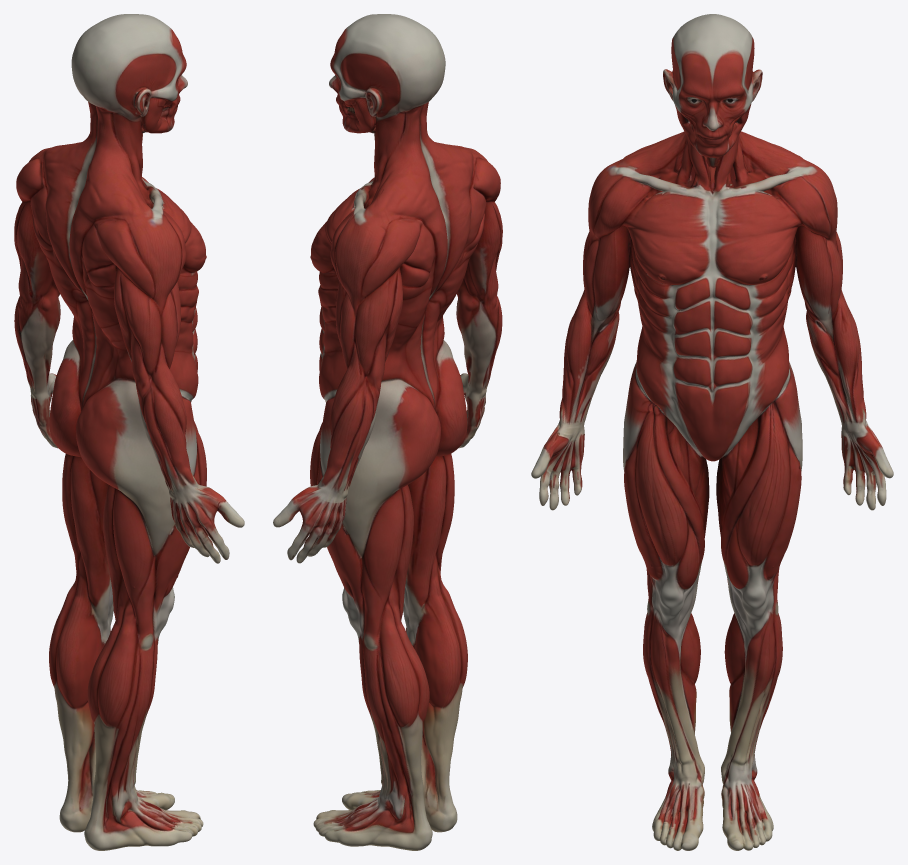
The model's file is muscle-body.glb.
3 renders of one model, left to right at view 1: azimuth 30°, elevation 25°; view 2: azimuth 150°, elevation 25°; view 3: azimuth 270°, elevation 25°, orthographic.
Parts seen in each view (by area): view 1: tripo_node_e4066bfd-7f6f-4bfc-8abd-c927e17d219d; view 2: tripo_node_e4066bfd-7f6f-4bfc-8abd-c927e17d219d; view 3: tripo_node_e4066bfd-7f6f-4bfc-8abd-c927e17d219d.
Boxes of the visible parts, x1,y1,x2,y2 form: tripo_node_e4066bfd-7f6f-4bfc-8abd-c927e17d219d: [14, 14, 244, 850]; tripo_node_e4066bfd-7f6f-4bfc-8abd-c927e17d219d: [273, 14, 502, 850]; tripo_node_e4066bfd-7f6f-4bfc-8abd-c927e17d219d: [531, 14, 893, 850].
Bounding box in the file's own units: 0.1657 × 1 × 0.4073.
1 material, 1 textured.
